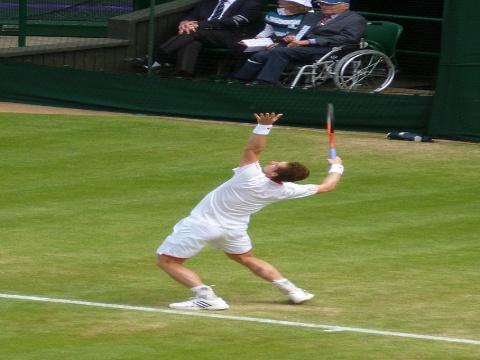hand: (252, 111, 284, 126)
